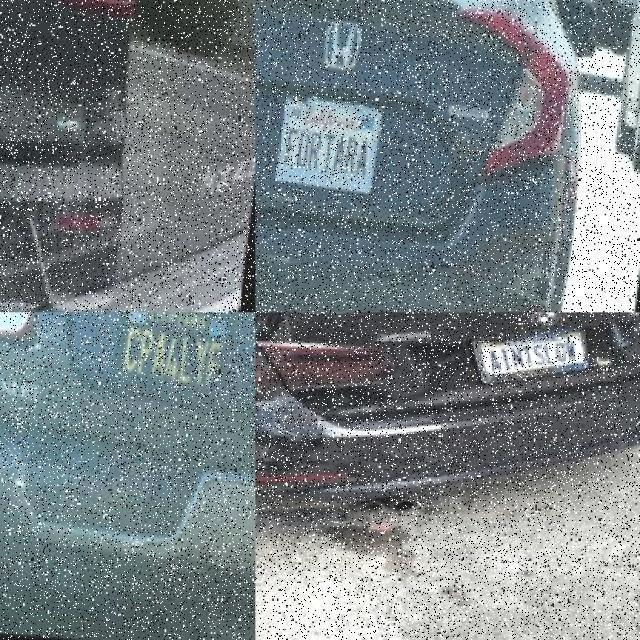license_plate: (110, 312, 234, 404), (274, 92, 382, 192), (471, 331, 594, 387)
